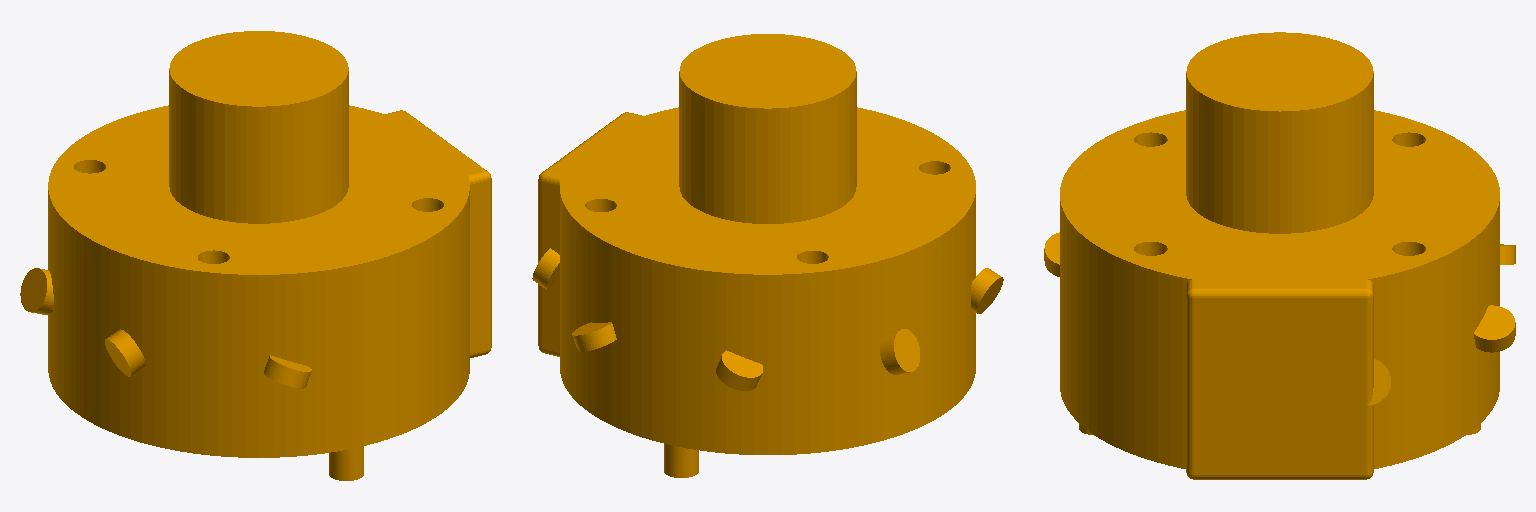
URDF robot description (kosmek_swr0070_master):
<?xml version="1.0"?>
<robot name="kosmek_swr0070_master">
<link name="mount"><visual ><geometry ><mesh filename="../meshes/master/mount.obj"/></geometry></visual><collision ><origin xyz="0 0 0.01125" rpy="0 0 0"/><geometry ><cylinder radius="0.0235" length="0.0225"/></geometry></collision><collision ><origin xyz="0 0 0.0297" rpy="0 0 0"/><geometry ><cylinder radius="0.01" length="0.0144"/></geometry></collision></link>
<link name="coupling"></link>
<joint name="coupling_joint" type="fixed"><parent link="mount"/><child link="coupling"/><origin xyz="0 0 0.0225" rpy="0 0 0"/></joint>
</robot>

--- Facts derived from the render (not from the file) ---
Views: 3 orthographic renders of the robot side by side, from view 1: azimuth 30°, elevation 25°; view 2: azimuth 150°, elevation 25°; view 3: azimuth 270°, elevation 25°.
Robot: kosmek_swr0070_master — 2 links, 1 joints (1 fixed); root link mount; default pose: every joint at zero.
Visible links, largest first — view 1: mount; view 2: mount; view 3: mount.
Link boxes in pixels (x1,y1,x2,y2): mount: (20,31,491,480); mount: (532,34,1003,477); mount: (1044,32,1515,479).
Bounding box of the posed robot: 0.049 × 0.0503 × 0.0419 m (x, y, z).
Meshes: 1 distinct files referenced, 1 mesh visuals loaded (1 OBJ).
